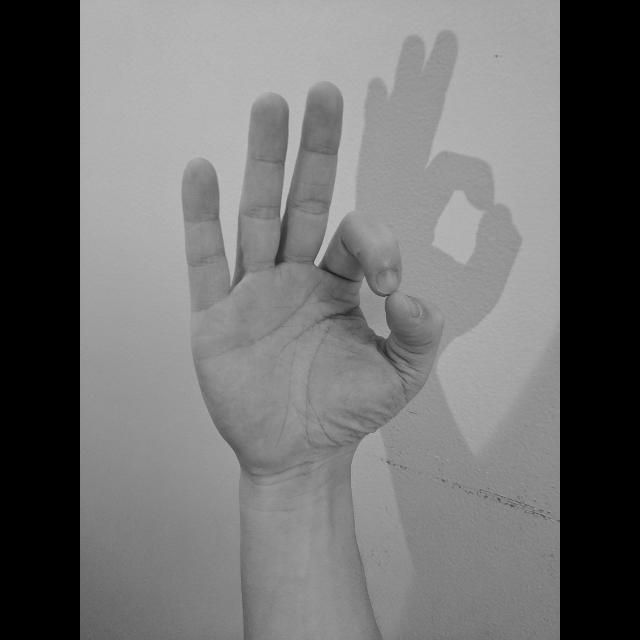F: (176, 76, 450, 477)
